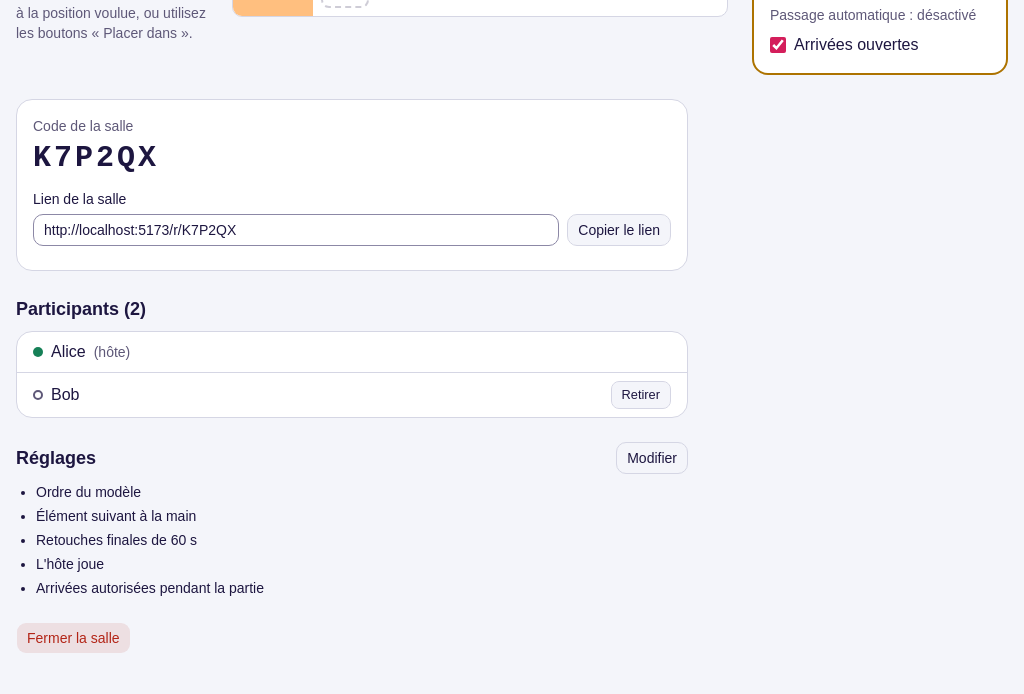
Test: RoomPage › warns the room admin that closing ends the game in progress
This screenshot has width=1024, height=694.
(page scrolled)
Click the button "Fermer la salle".
click(73, 638)  # box [16,622,131,654]
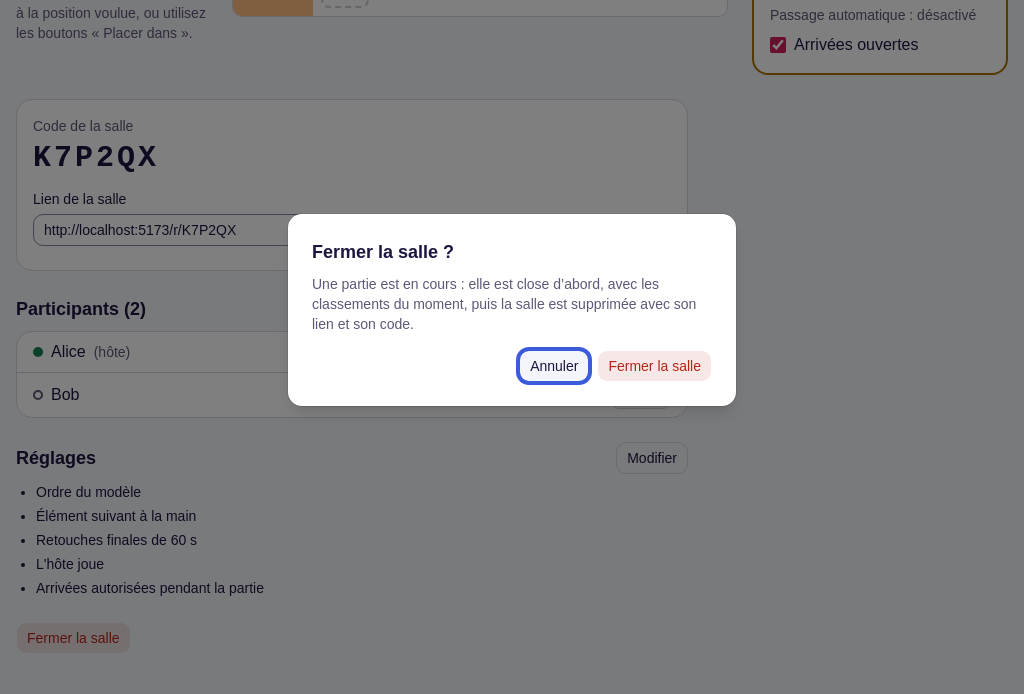
Expected: the dialog "Fermer la salle ?" shows "Une partie est en cours : elle est close d’abord", [312,276,696,332]
